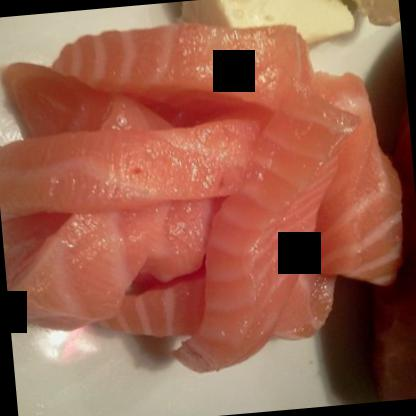salmon: (144, 88, 379, 378), (0, 53, 198, 339), (47, 13, 320, 140), (0, 106, 266, 223), (282, 85, 406, 288)
